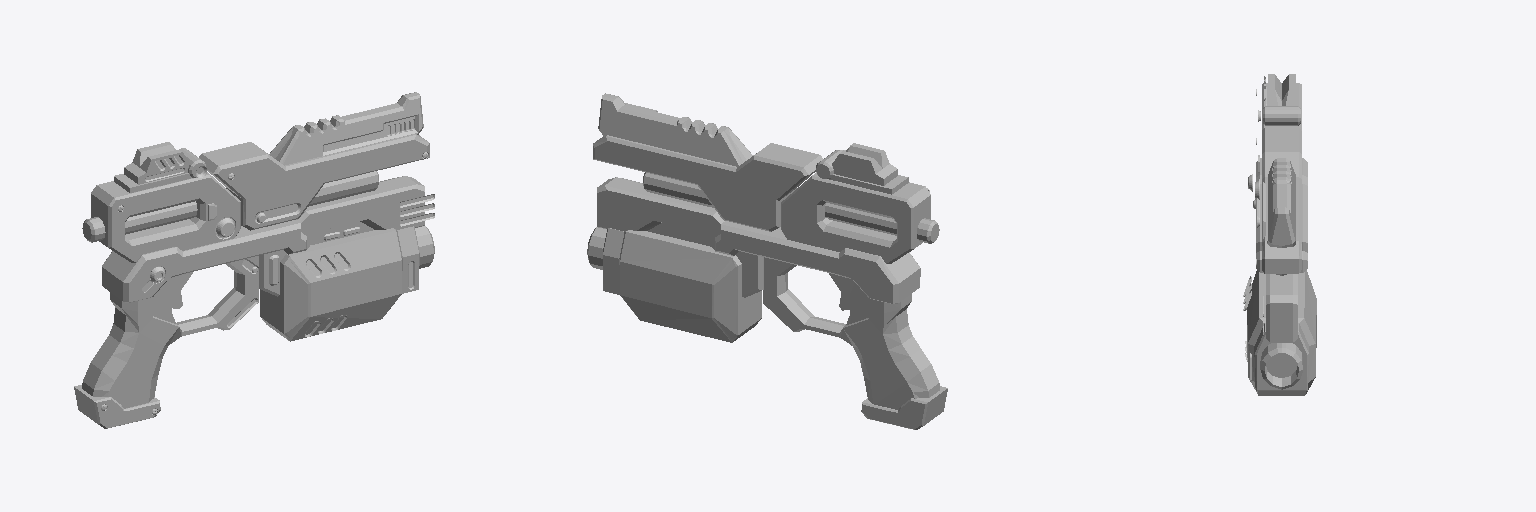
3 renders of one model, left to right at view 1: azimuth 30°, elevation 25°; view 2: azimuth 150°, elevation 25°; view 3: azimuth 270°, elevation 25°, orthographic.
Visible parts, largest first — view 1: BaseMesh.001_Plane.000, Cube_Cube.004; view 2: BaseMesh.001_Plane.000; view 3: BaseMesh.001_Plane.000.
Part boxes in pixels (x1,y1,x2,y2): BaseMesh.001_Plane.000: (74, 92, 434, 428); Cube_Cube.004: (400, 194, 434, 226); BaseMesh.001_Plane.000: (587, 93, 947, 429); BaseMesh.001_Plane.000: (1247, 74, 1316, 395).
Bounding box in the file's own units: 6.83 × 4.87 × 1.27.